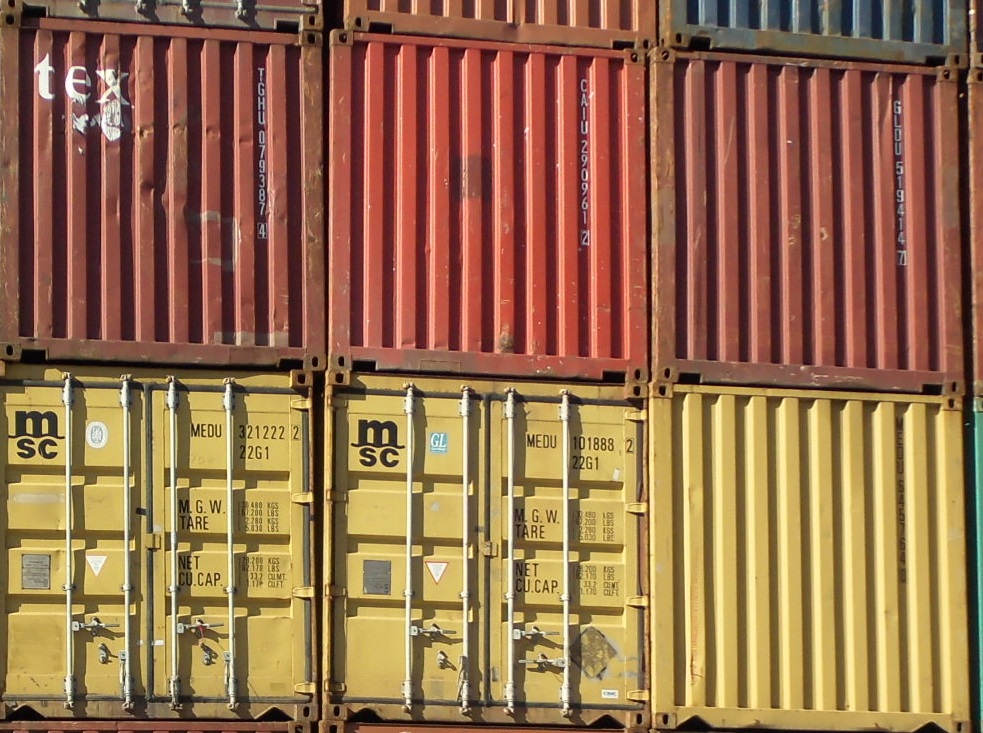container_door: (4, 360, 315, 727), (322, 380, 645, 733)
container_no_door: (333, 34, 647, 382), (655, 45, 967, 393), (1, 30, 328, 362), (652, 384, 963, 733)
